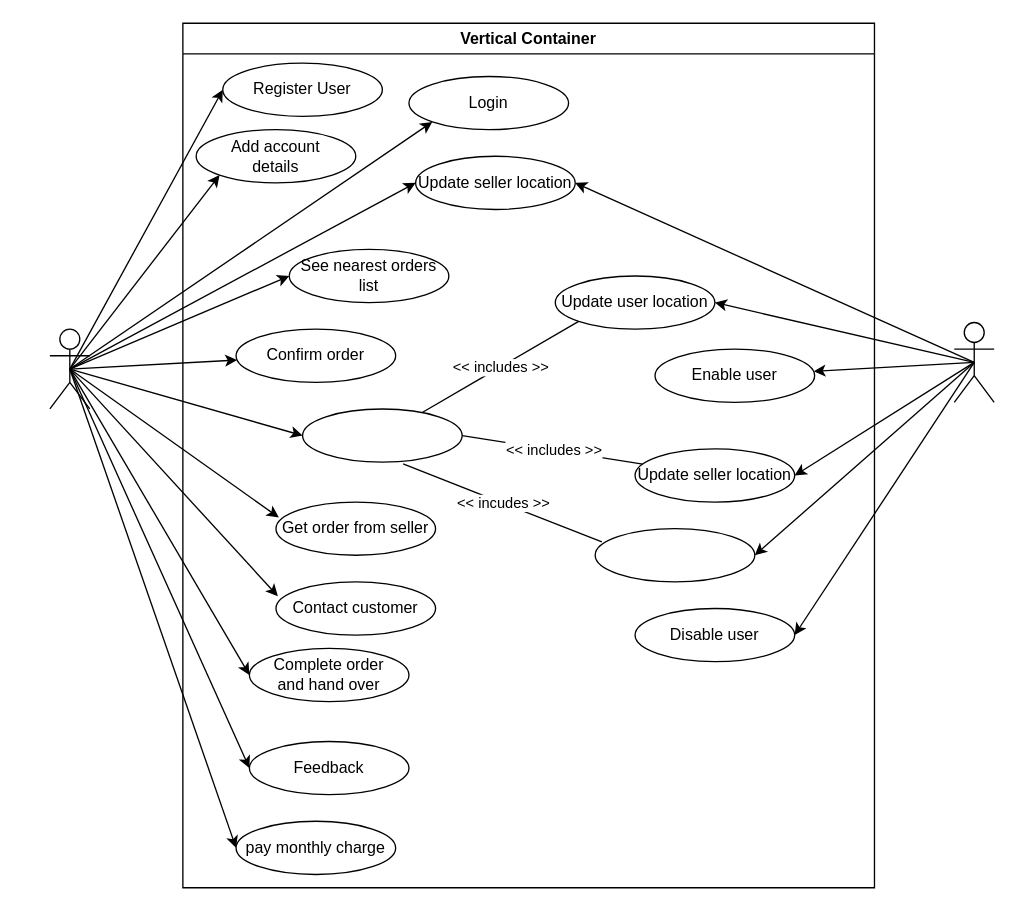
The diagram is 1023 pixels wide and 911 high, and some of its shapes have lost their labels. The shapes that lost their labels are listed below. From the top down, each one's box as (x1, y1, x2, y2) in pixels, then its label:
(49, 328, 90, 409): Delivery Man
(953, 321, 994, 402): System
(301, 408, 462, 462): Track order
(594, 527, 755, 582): Update Delivery man location
